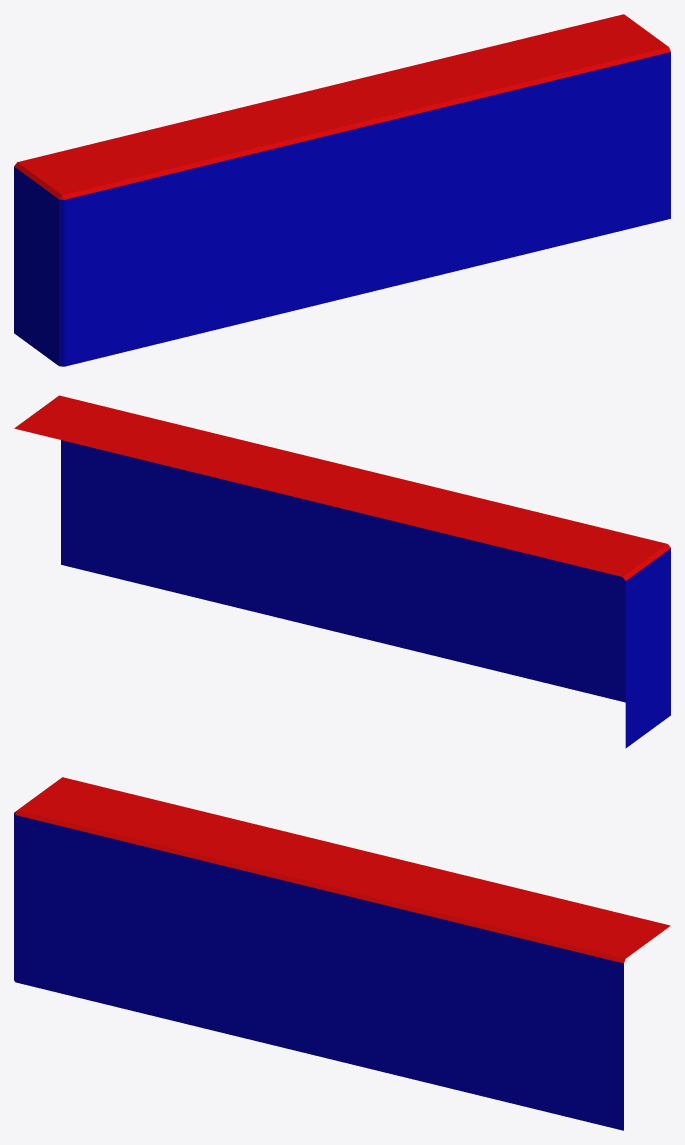
Rendered from Beginning Air.fbx.
3 renders of one model, top to bottom at view 1: azimuth 30°, elevation 25°; view 2: azimuth 150°, elevation 25°; view 3: azimuth 330°, elevation 25°, orthographic.
Parts seen in each view (by area): view 1: Level_3_beginning; view 2: Level_3_beginning; view 3: Level_3_beginning.
Part boxes in pixels (box(x1,y1,x2,y2)): Level_3_beginning: box(14, 14, 670, 366); Level_3_beginning: box(14, 395, 670, 748); Level_3_beginning: box(14, 777, 670, 1130).
Size of the model in its own units: 15 by 4 by 2.
